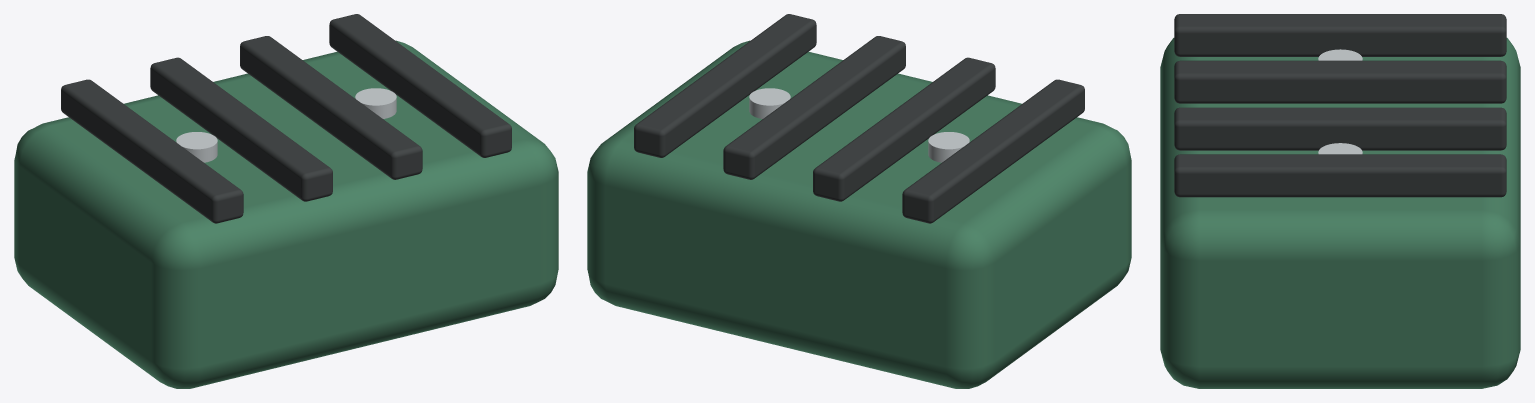
Rendered from clockmaker-and-watch-repair-bracelet-sizing-block-01649ef6__30630.glb.
3 renders of one model, left to right at view 1: azimuth 30°, elevation 25°; view 2: azimuth 150°, elevation 25°; view 3: azimuth 270°, elevation 25°, orthographic. The views are drawn at different scales.
Visible parts, largest first — view 1: bracelet-sizing-block; view 2: bracelet-sizing-block; view 3: bracelet-sizing-block.
Boxes of the visible parts, <box> form: bracelet-sizing-block: <box>14,14,558,388</box>; bracelet-sizing-block: <box>587,14,1131,388</box>; bracelet-sizing-block: <box>1160,14,1520,388</box>.
Bounding box in the file's own units: 0.09 × 0.041 × 0.065.
